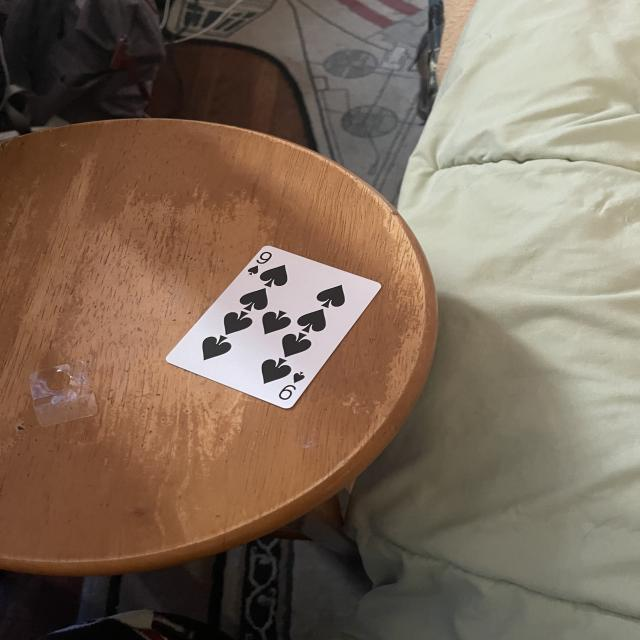9 of spades: (164, 244, 380, 410)
